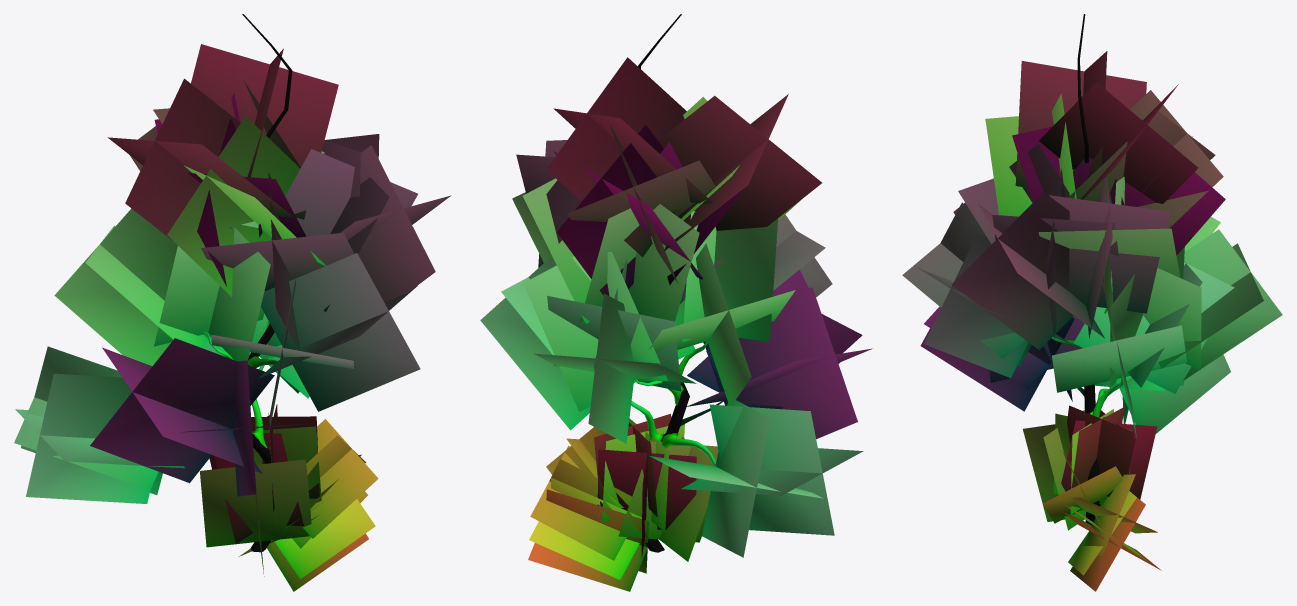
File: M_P12_Tree_4.fbx
3 views of the same model, side by side, from view 1: azimuth 30°, elevation 25°; view 2: azimuth 150°, elevation 25°; view 3: azimuth 270°, elevation 25° (orthographic). The views are drawn at different scales.
Parts seen in each view (by area): view 1: Tree_4; view 2: Tree_4; view 3: Tree_4.
Part boxes in pixels (<box>): Tree_4: <box>14,14,451,591</box>; Tree_4: <box>480,14,872,591</box>; Tree_4: <box>902,14,1282,591</box>.
Size of the model in its own units: 196 by 300 by 192.
